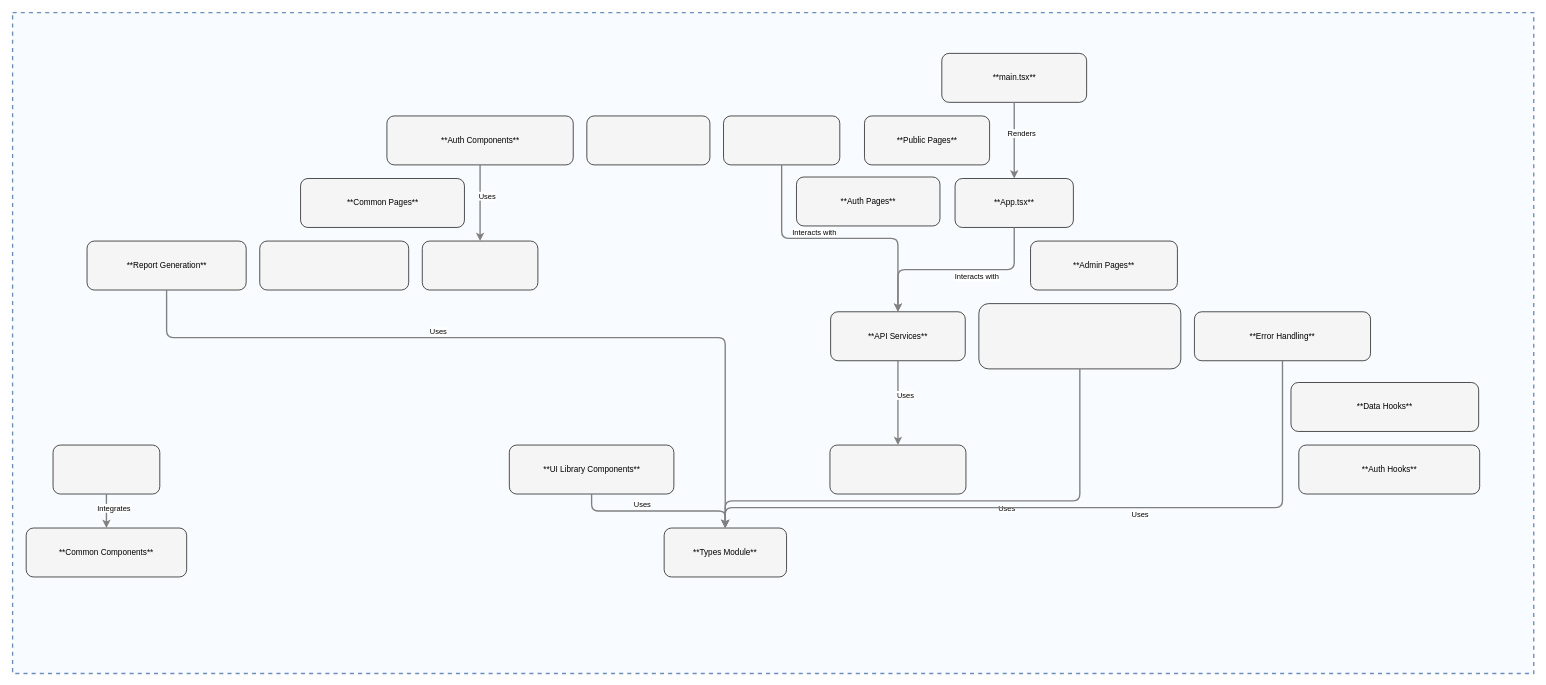
Some shapes in this 1546 by 685 pixel diagram are drawn without their labels. The shapes that lost their labels are listed below. From the top down, each one's centre as x and y in pixels, then its label:
point (648, 140): **UI Hooks**
point (781, 140): **Payment Components**
point (334, 265): **General Utilities**
point (480, 265): **Form Components**
point (1079, 336): **Beneficiary Utilities**
point (106, 469): **Layout Components**
point (897, 469): **API Types**
